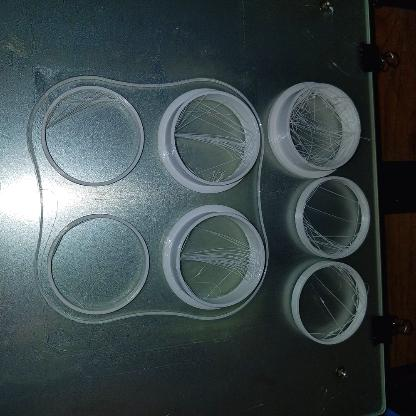fail: (173, 95, 254, 186), (290, 86, 354, 169), (180, 223, 260, 282), (301, 183, 363, 256), (312, 260, 360, 340), (47, 88, 121, 126)
